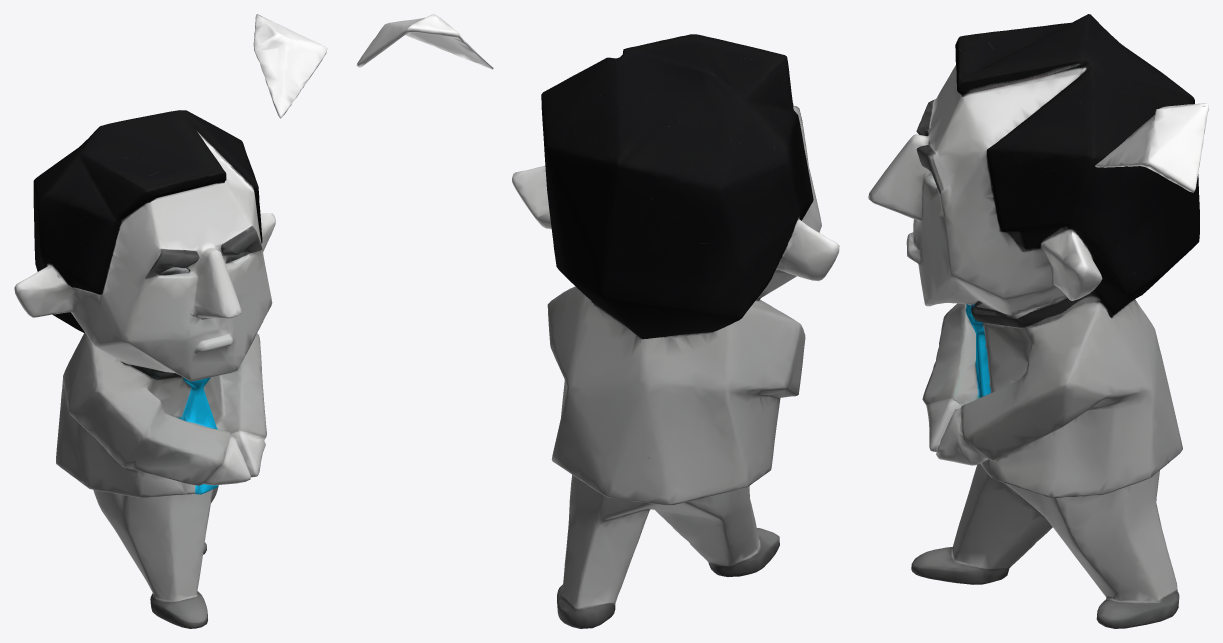
Rendered from infantry.glb.
3 renders of one model, left to right at view 1: azimuth 30°, elevation 25°; view 2: azimuth 150°, elevation 25°; view 3: azimuth 270°, elevation 25°, orthographic. The views are drawn at different scales.
Size of the model in its own units: 1.45 by 1.91 by 1.02.
Materials: 1 (1 with a texture image).
